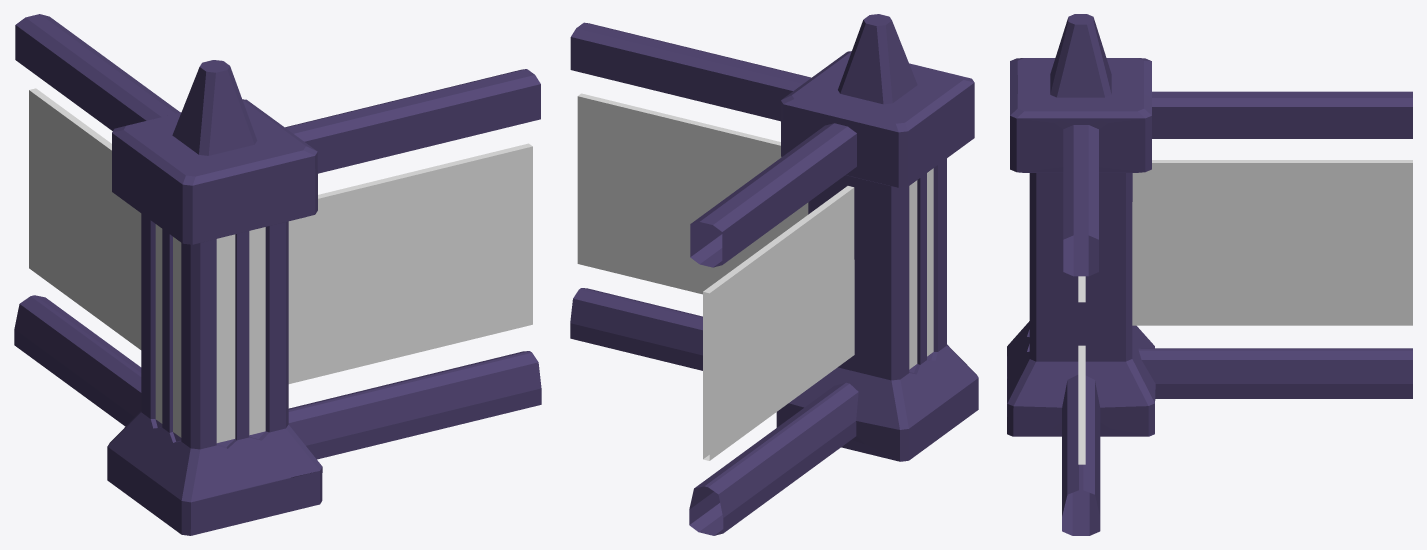
File: Barrière_Angle.fbx
The picture shows the model from 3 angles, left to right: view 1: azimuth 30°, elevation 25°; view 2: azimuth 150°, elevation 25°; view 3: azimuth 270°, elevation 25°; orthographic projection. The views are drawn at different scales.
Visible parts, largest first — view 1: Barriere.001, Milieu.002; view 2: Barriere.001, Milieu.002; view 3: Barriere.001, Milieu.002.
Boxes of the visible parts, box(x1,y1,x2,y2) form: Barriere.001: box(14, 14, 541, 535); Milieu.002: box(29, 88, 532, 383); Barriere.001: box(570, 14, 978, 535); Milieu.002: box(577, 93, 854, 460); Barriere.001: box(1007, 14, 1412, 535); Milieu.002: box(1078, 160, 1412, 464).
Bounding box in the file's own units: 19.05 × 19.96 × 19.01.
